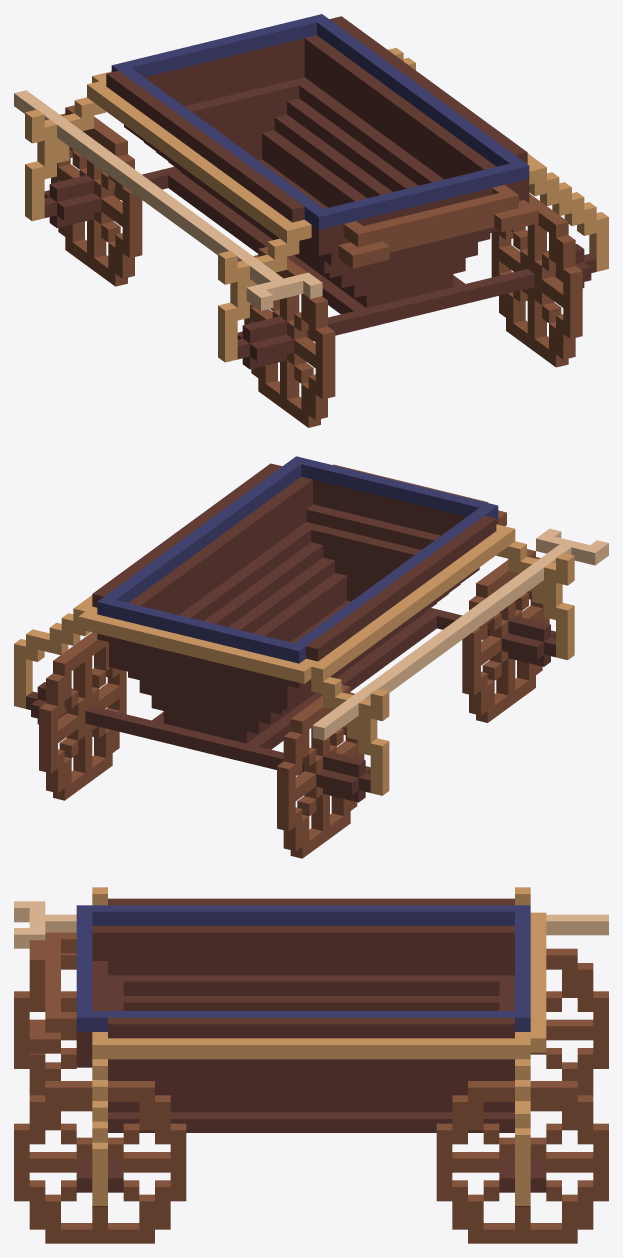
File: cart.obj
3 views of the same model, one above another, from view 1: azimuth 30°, elevation 25°; view 2: azimuth 150°, elevation 25°; view 3: azimuth 270°, elevation 25° (orthographic). The views are drawn at different scales.
Bounding box in the file's own units: 3.1 × 1.5 × 3.8.
Materials: 1 (1 with a texture image).
